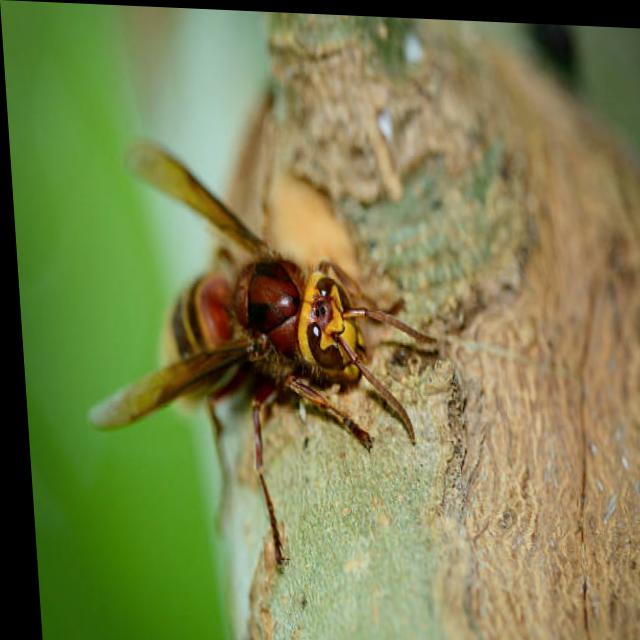Vespa Crabro: (66, 107, 450, 578)
